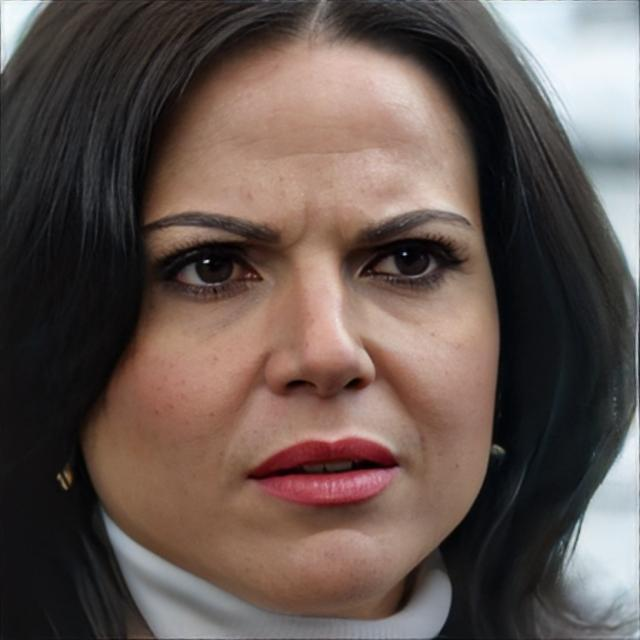disgust: (78, 16, 502, 615)
